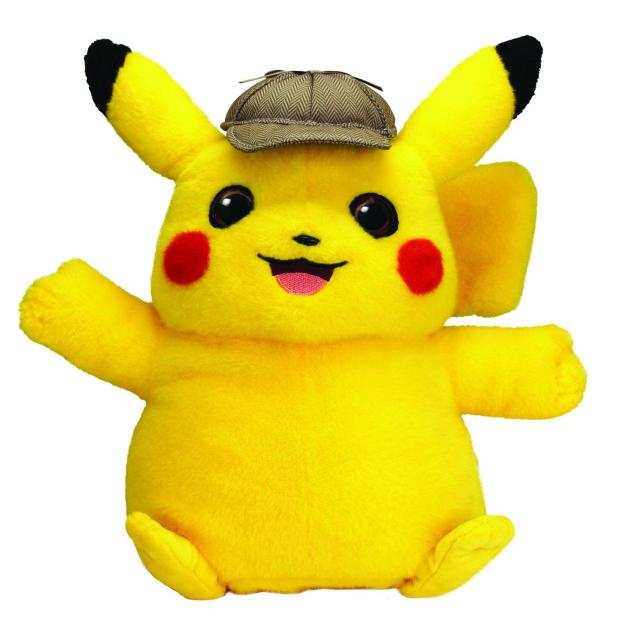pikachu: (2, 27, 589, 599)
